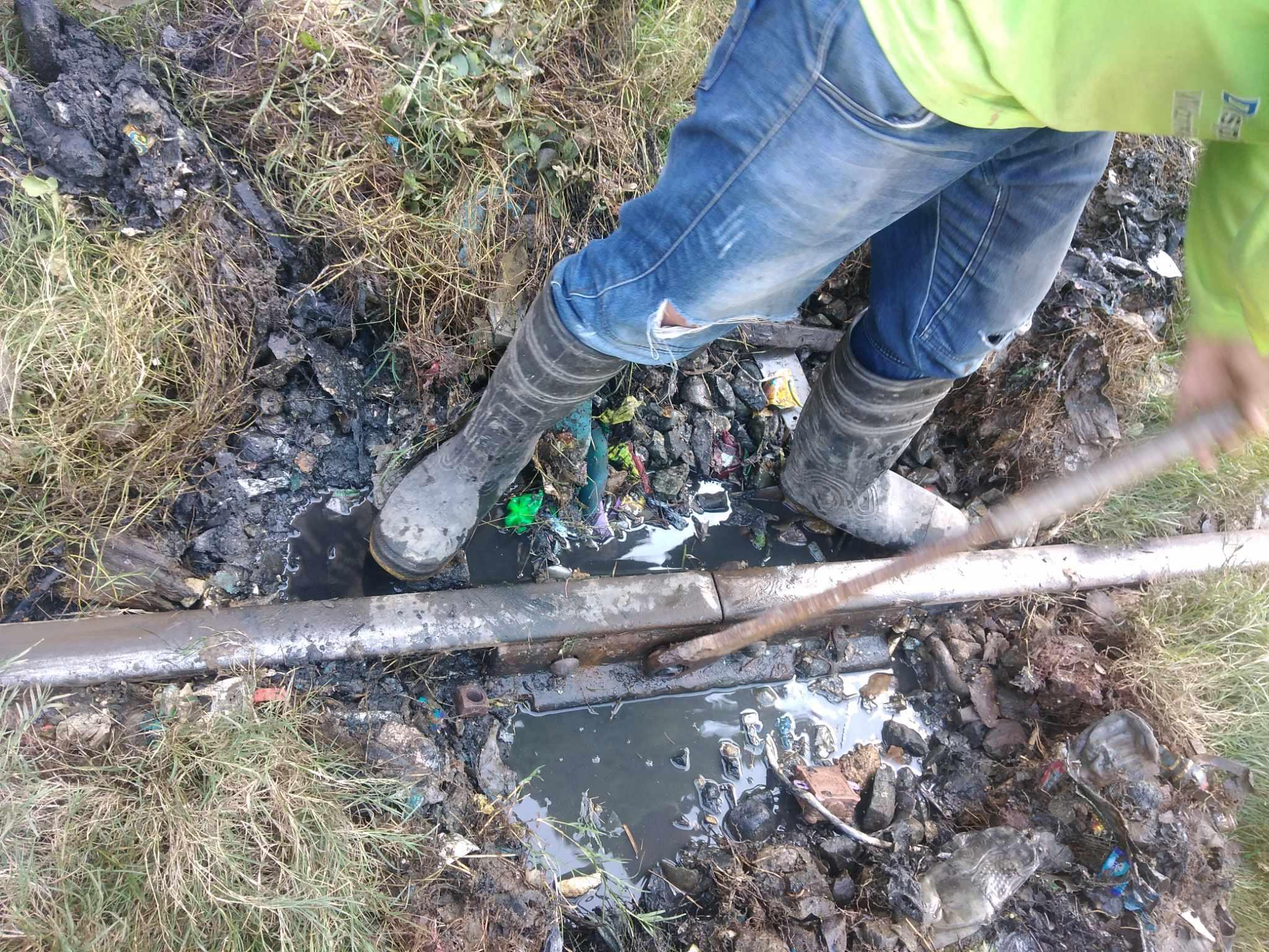railway-gap: (667, 545, 770, 646)
